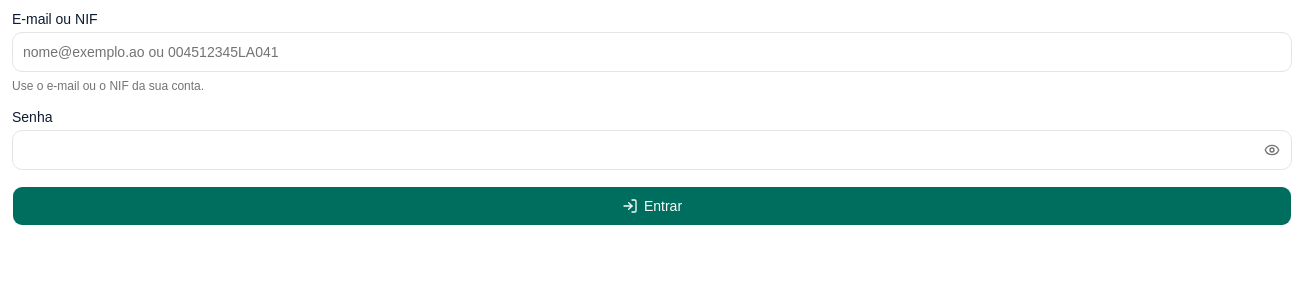
Test case: LoginForm › bloqueia o botão durante o Retry-After de um 429
Type "ana@exemplo.ao" into the field labelled "E-mail ou NIF" at (652, 52), box [12, 32, 1292, 72]
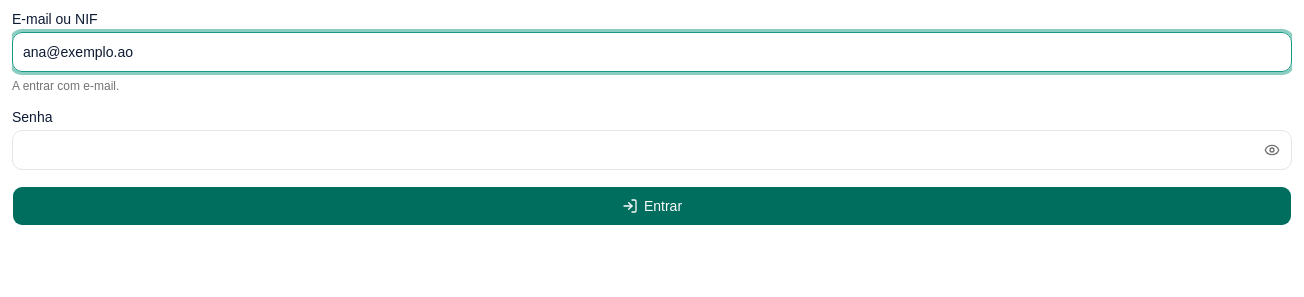
Type "x" into the password field labelled "Senha" at (652, 150), box [12, 130, 1292, 170]
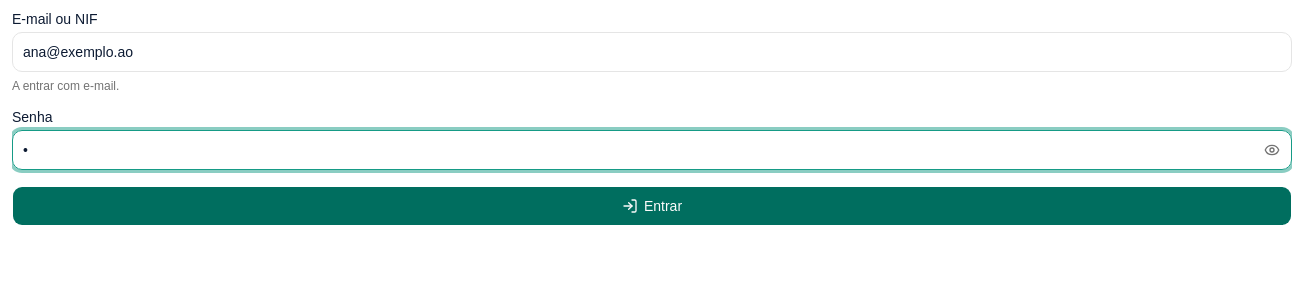
Click the button "Entrar" at (652, 206), box [12, 186, 1292, 226]
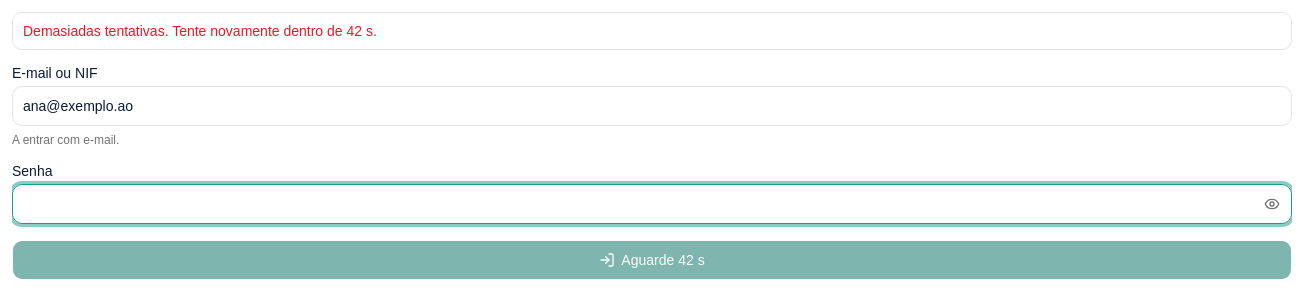
Check: the button "Aguarde 42 s" is disabled, box [12, 240, 1292, 280]
